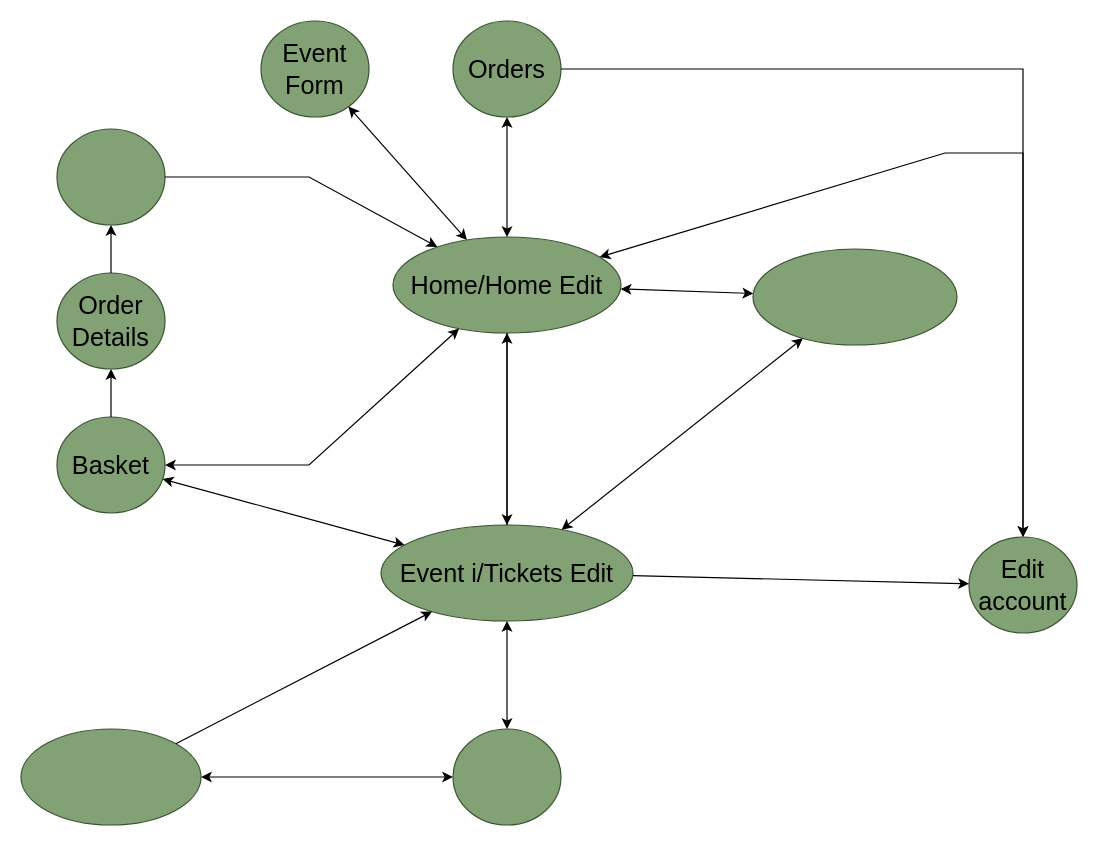
The diagram is 1098 pixels wide and 846 high, and some of its shapes have lost their labels. Each missing label, with the centre of its shape:
Discount Code Form: the point at 110,776
Login/Register: the point at 854,296
Receipt: the point at 110,176
Ticket Form: the point at 506,776
